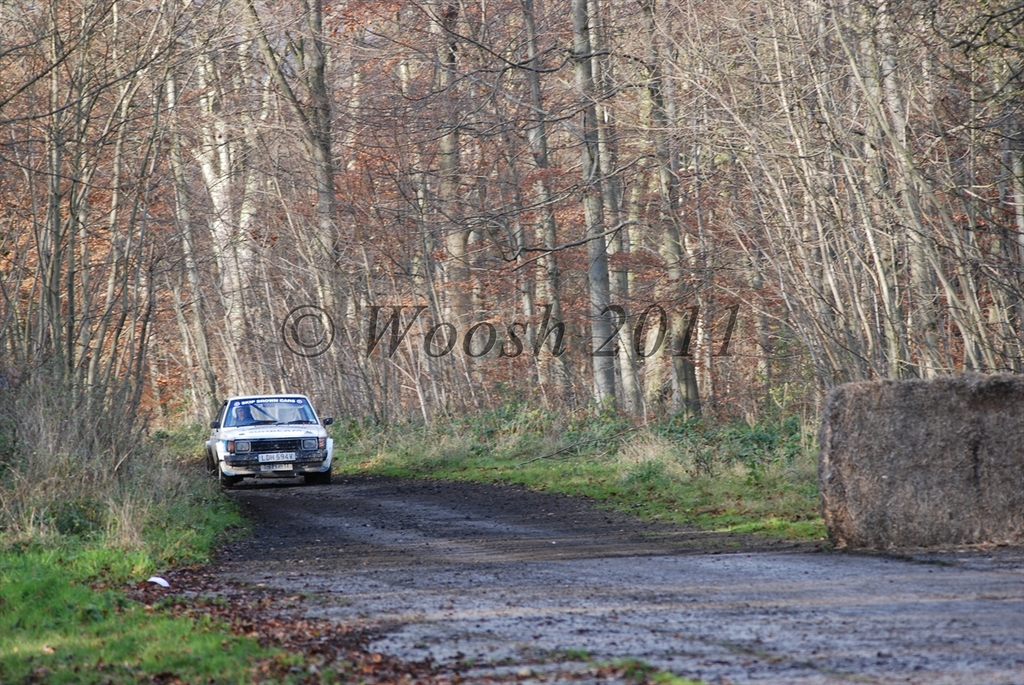Car: (206, 394, 337, 491)
